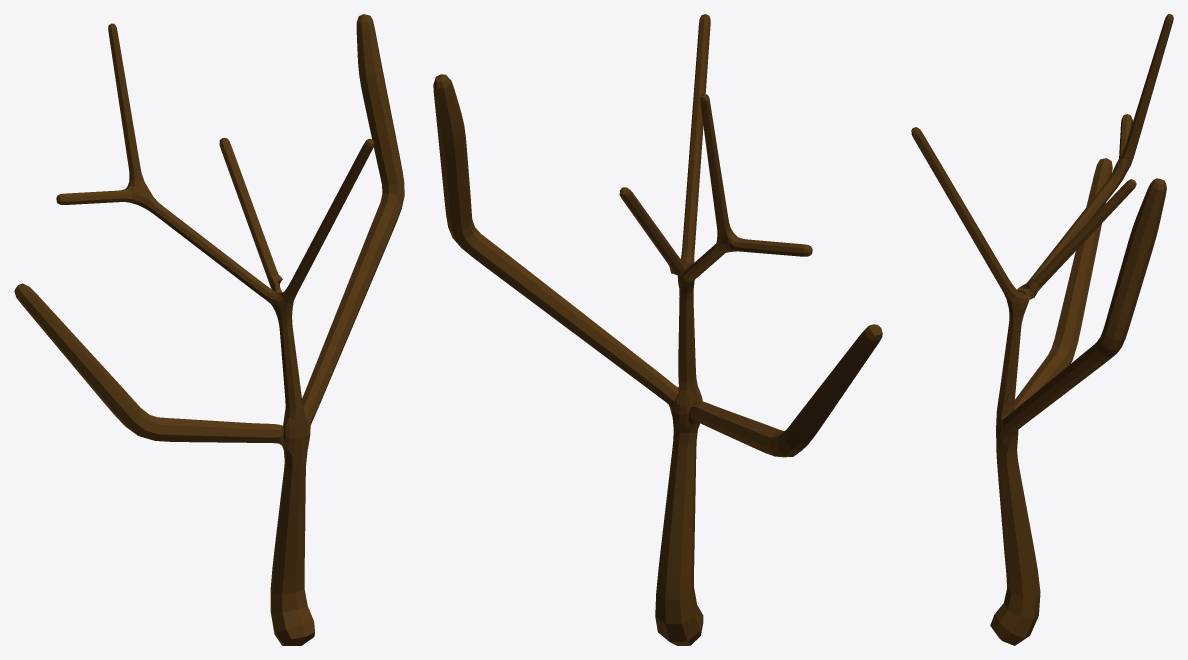
Rendered from SpikyPlant(T).fbx.
The picture shows the model from 3 angles, left to right: view 1: azimuth 30°, elevation 25°; view 2: azimuth 150°, elevation 25°; view 3: azimuth 270°, elevation 25°; orthographic projection. The views are drawn at different scales.
Parts seen in each view (by area): view 1: Spiky; view 2: Spiky; view 3: Spiky.
Part boxes in pixels (x1,y1,x2,y2): Spiky: [14, 14, 404, 645]; Spiky: [433, 14, 882, 645]; Spiky: [911, 14, 1173, 645].
Size of the model in its own units: 371 by 532 by 218.
